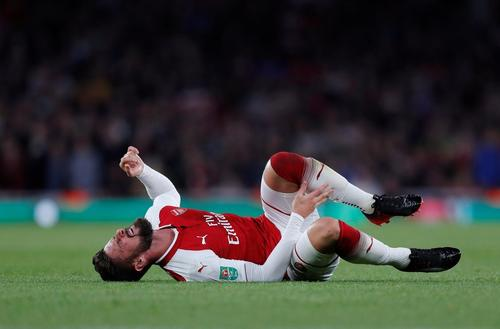fall: (94, 138, 467, 284)
